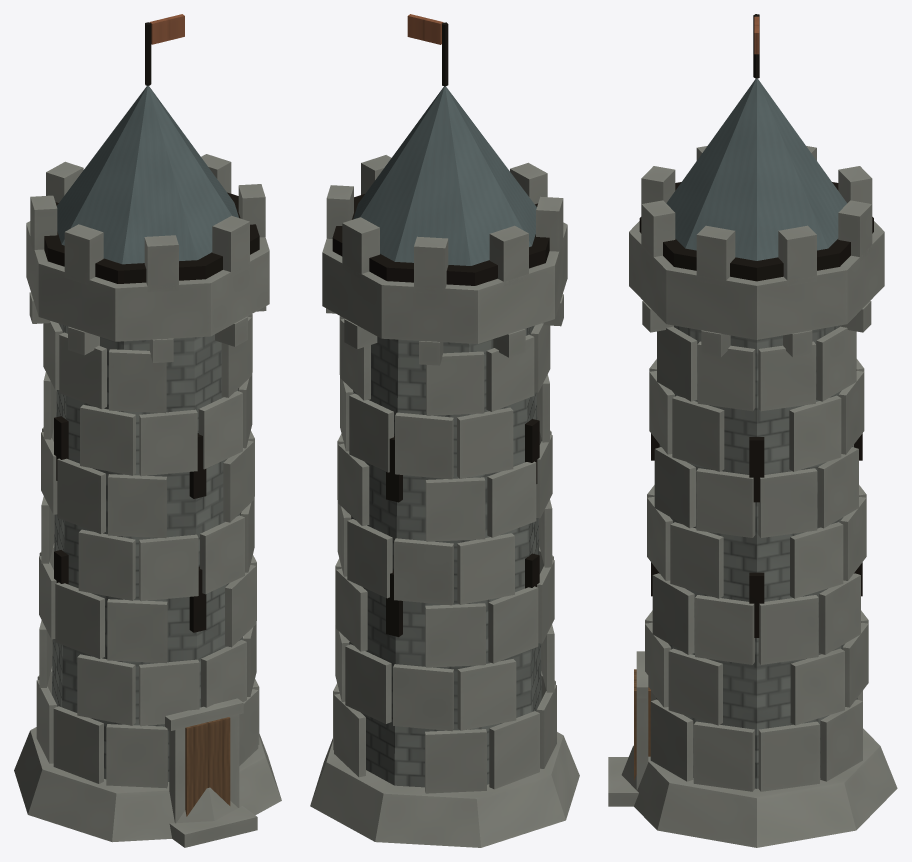
Rendered from watchtower.glb.
3 renders of one model, left to right at view 1: azimuth 30°, elevation 25°; view 2: azimuth 150°, elevation 25°; view 3: azimuth 270°, elevation 25°, orthographic.
Parts seen in each view (by area): view 1: watchtower; view 2: watchtower; view 3: watchtower.
Boxes of the visible parts, x1,y1,x2,y2 form: watchtower: (14, 14, 281, 847); watchtower: (310, 14, 579, 847); watchtower: (608, 14, 897, 847).
Bounding box in the file's own units: 0.66 × 2 × 0.678.
1 material, 1 textured.
